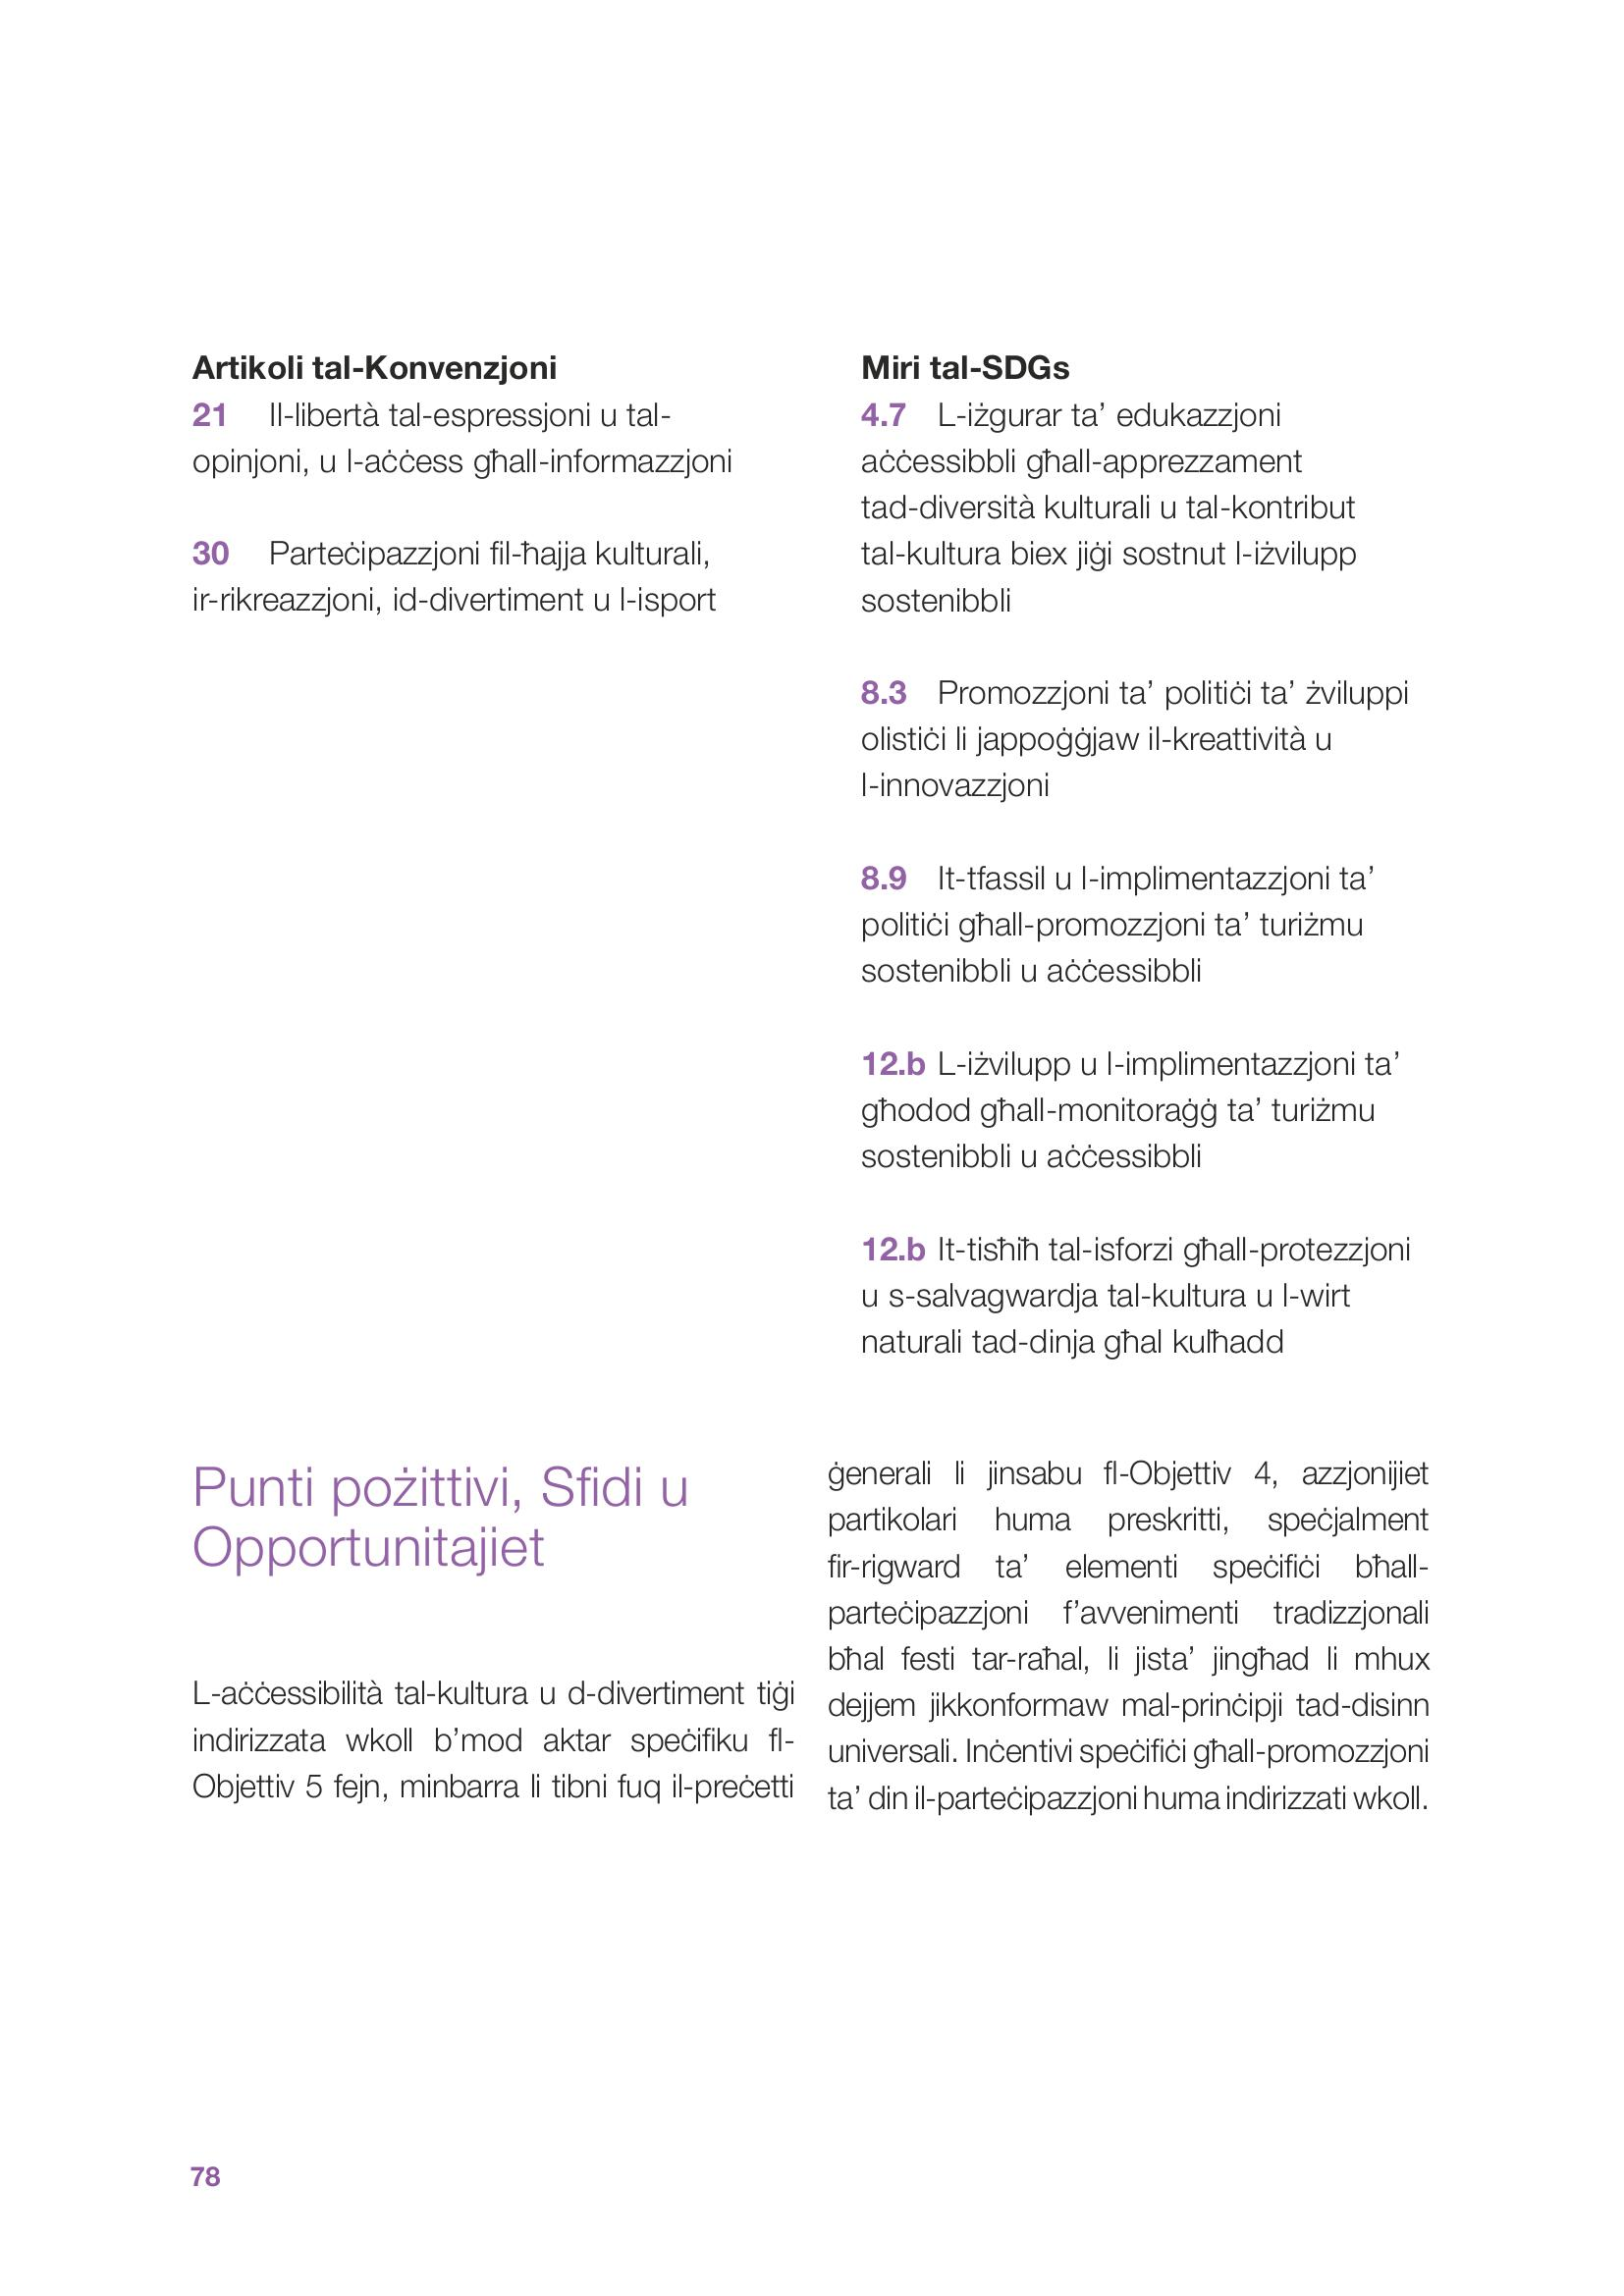text: (165, 1411, 808, 1860), (803, 1449, 1445, 1850)
